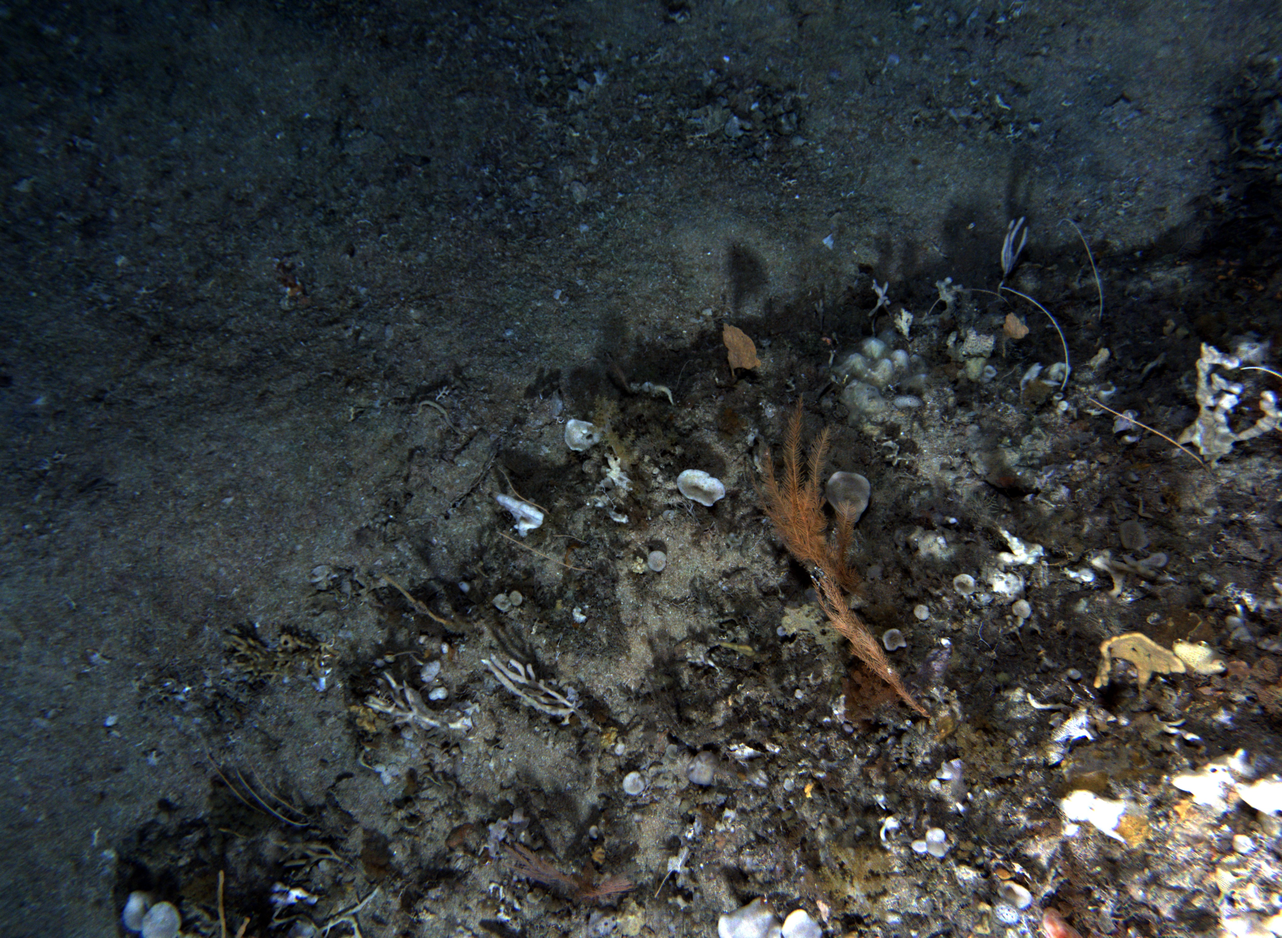Brachionichthyidae: (1036, 904, 1088, 938)
